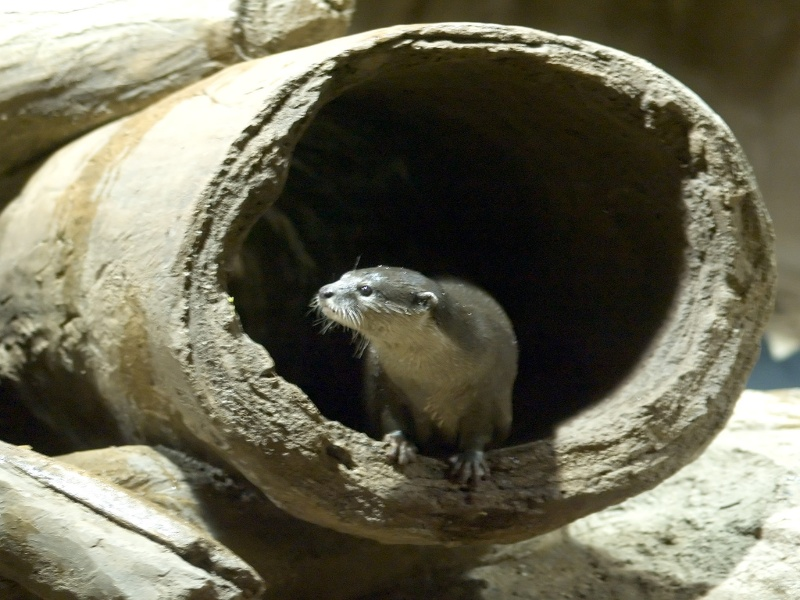minkish: (308, 252, 530, 493)
